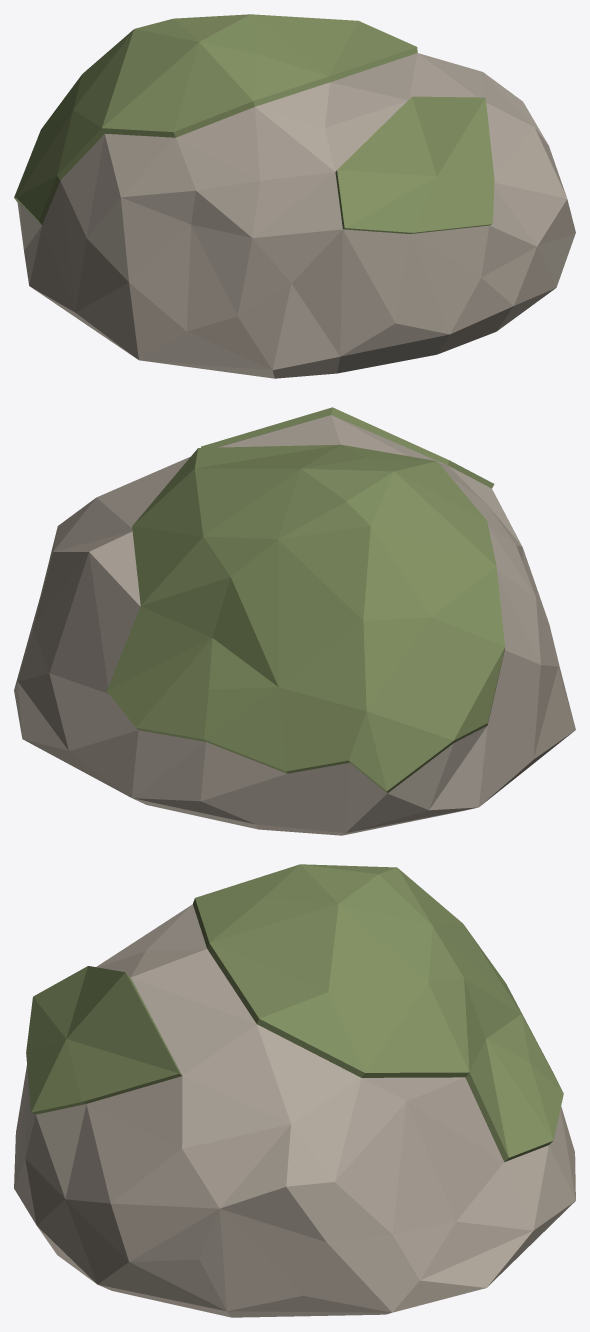
File: Mossy_Rock.fbx
3 views of the same model, one above another, from view 1: azimuth 30°, elevation 25°; view 2: azimuth 150°, elevation 25°; view 3: azimuth 270°, elevation 25° (orthographic). The views are drawn at different scales.
Visible parts, largest first — view 1: Mossy Rock; view 2: Mossy Rock; view 3: Mossy Rock.
Part boxes in pixels (x1=…): Mossy Rock: x1=14, y1=14, x2=575, y2=378; Mossy Rock: x1=14, y1=407, x2=575, y2=835; Mossy Rock: x1=14, y1=864, x2=575, y2=1317.
Size of the model in its own units: 1912 by 1058 by 1865.
